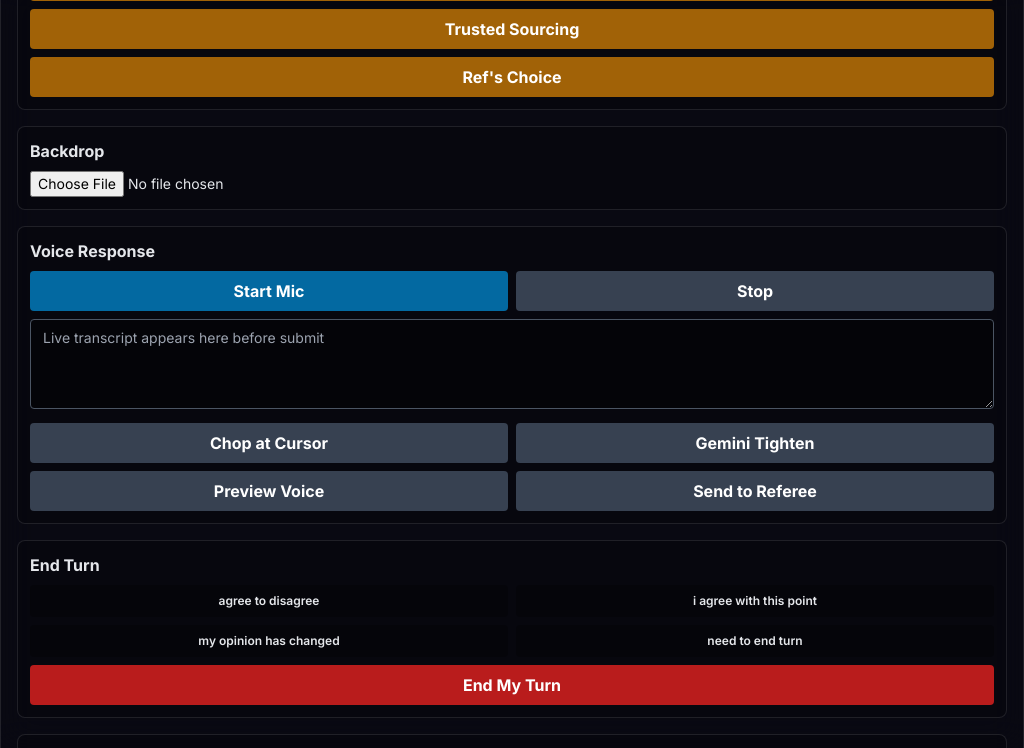
Test: ControlsPanelV2 transcript workflow › locks transcript submission after a chop until the player repeats from the cut
(page scrolled)
In the text box with placeholder "Live transcript appears here before submit": (512, 364) [30,319,994,409], type "This is my first point and this is the second point."
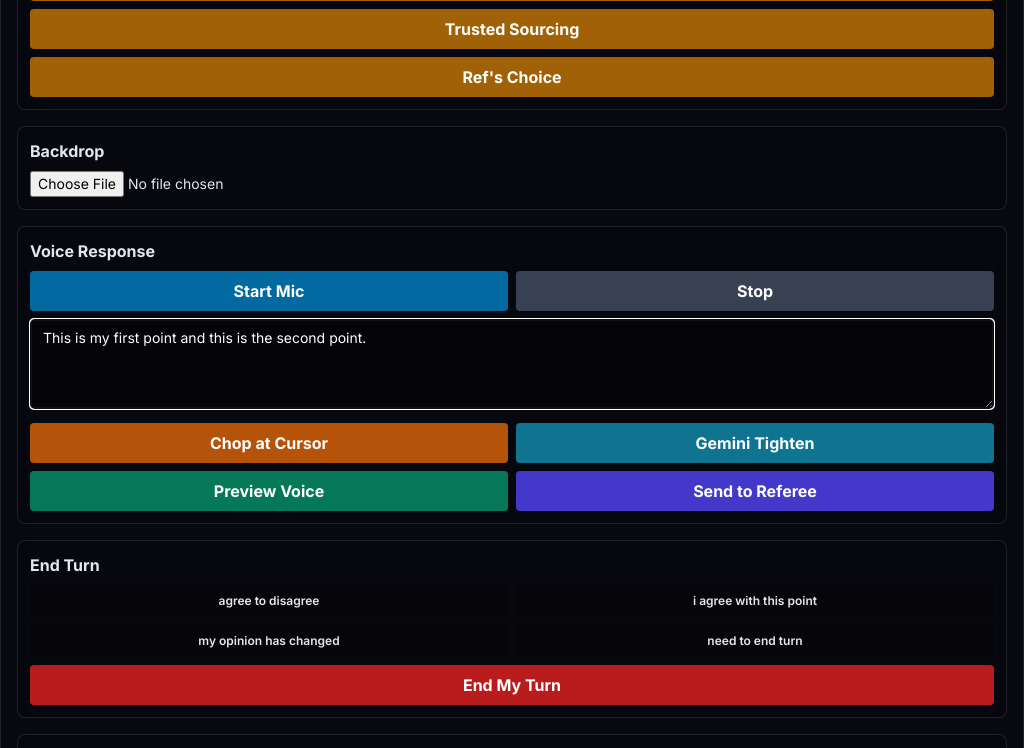
Click the button "Chop at Cursor": (269, 443) [30,423,508,463]
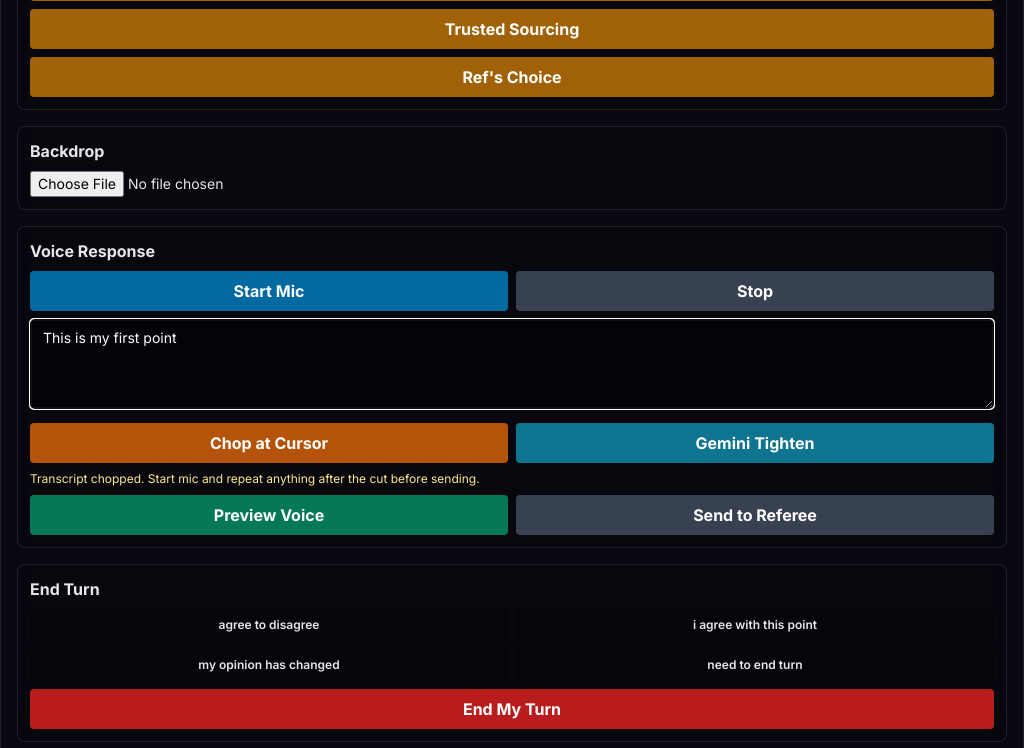
Check: the text box with placeholder "Live transcript appears here before submit" holds "This is my first point", box [30,319,994,409]
Check: the text "repeat anything after the cut before sending" is shown, box [30,471,480,486]
Check: the button "Send to Referee" is disabled, box [516,495,994,535]
